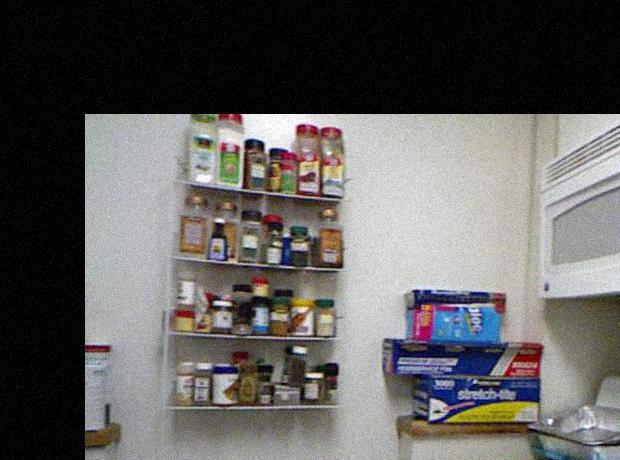Electrodomestico: (430, 380, 620, 460)
